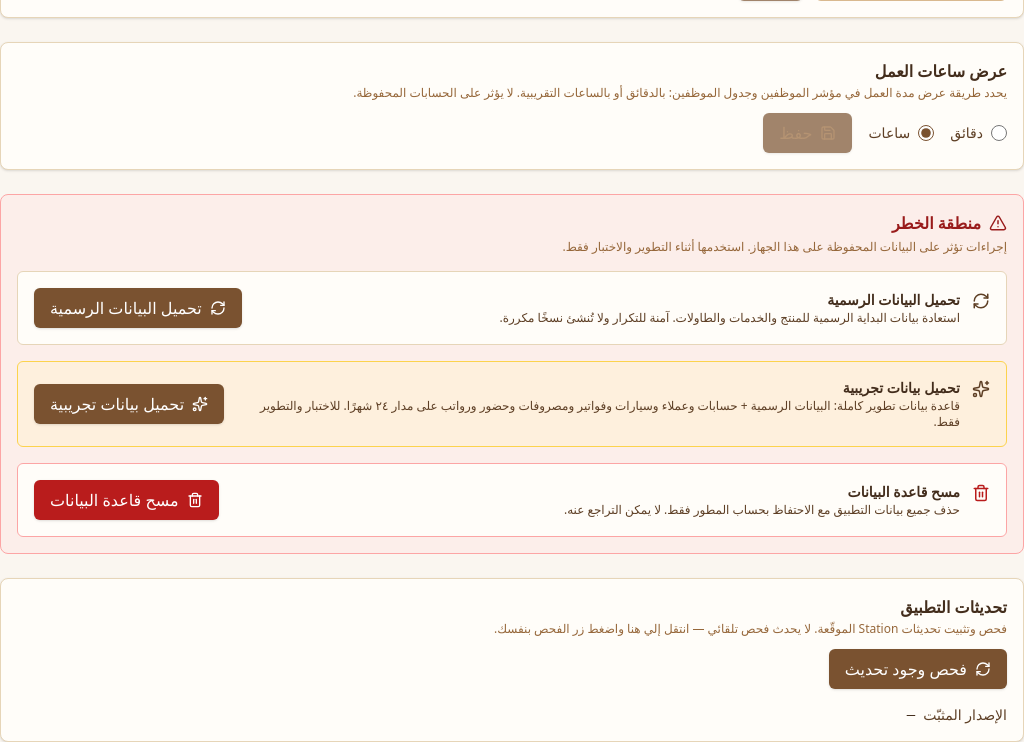
DevSettingsPage › surfaces a demo load failure in Arabic instead of reporting success
(page scrolled)
Click the button "تحميل بيانات تجريبية". click: (129, 404)
box: [34, 384, 224, 424]
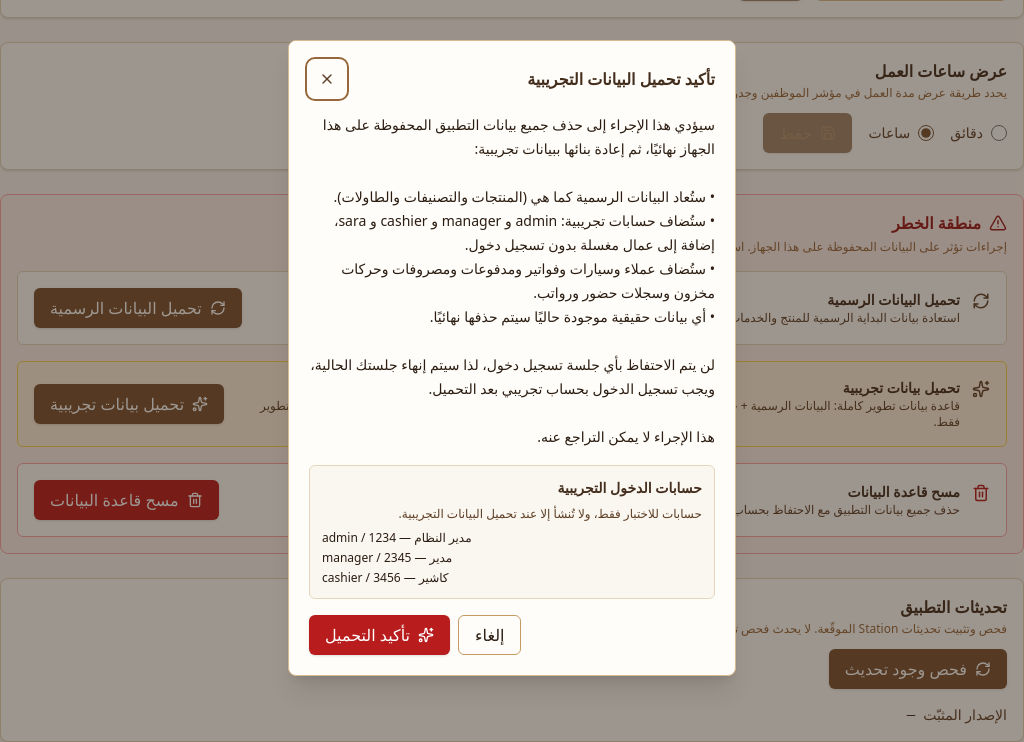
Click the button "تأكيد التحميل". click: (380, 635)
box: [309, 615, 450, 655]
(page scrolled)
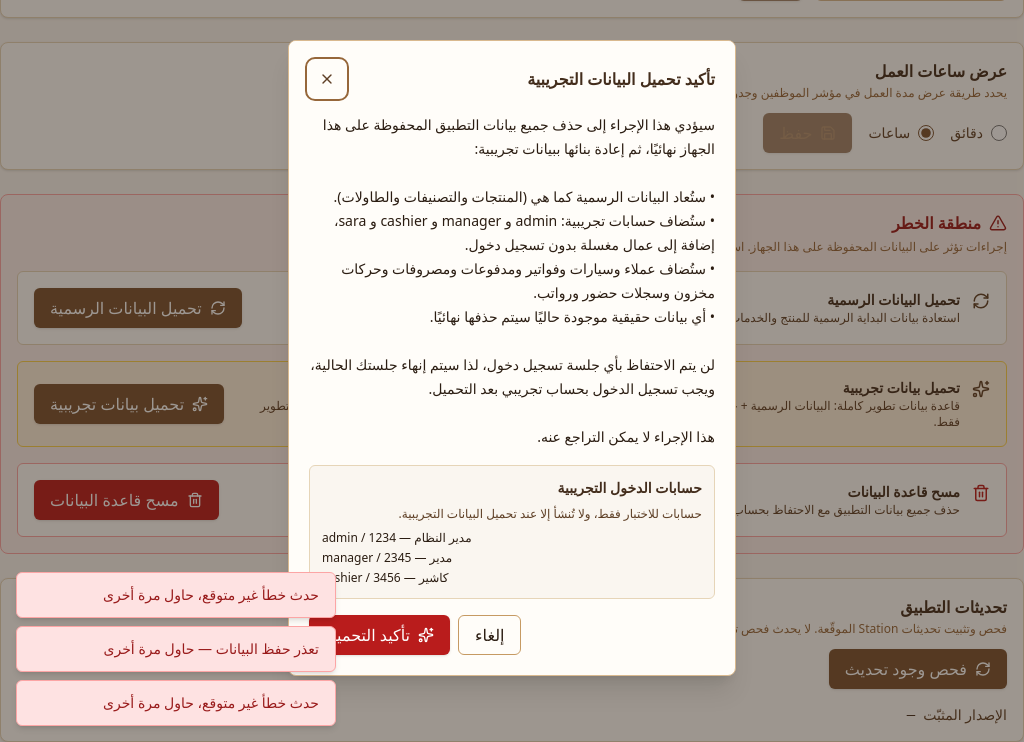
Expected: the text "تعذر حفظ البيانات — حاول مرة أخرى" is shown, [16, 626, 336, 672]
